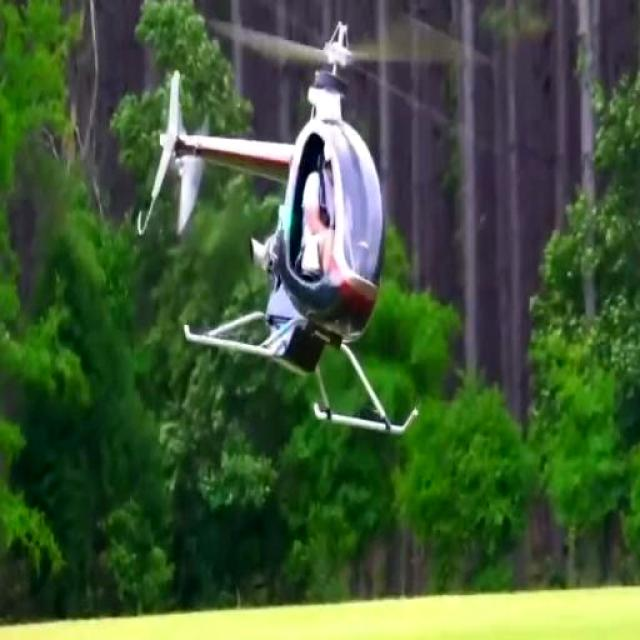drone: (132, 0, 468, 458)
